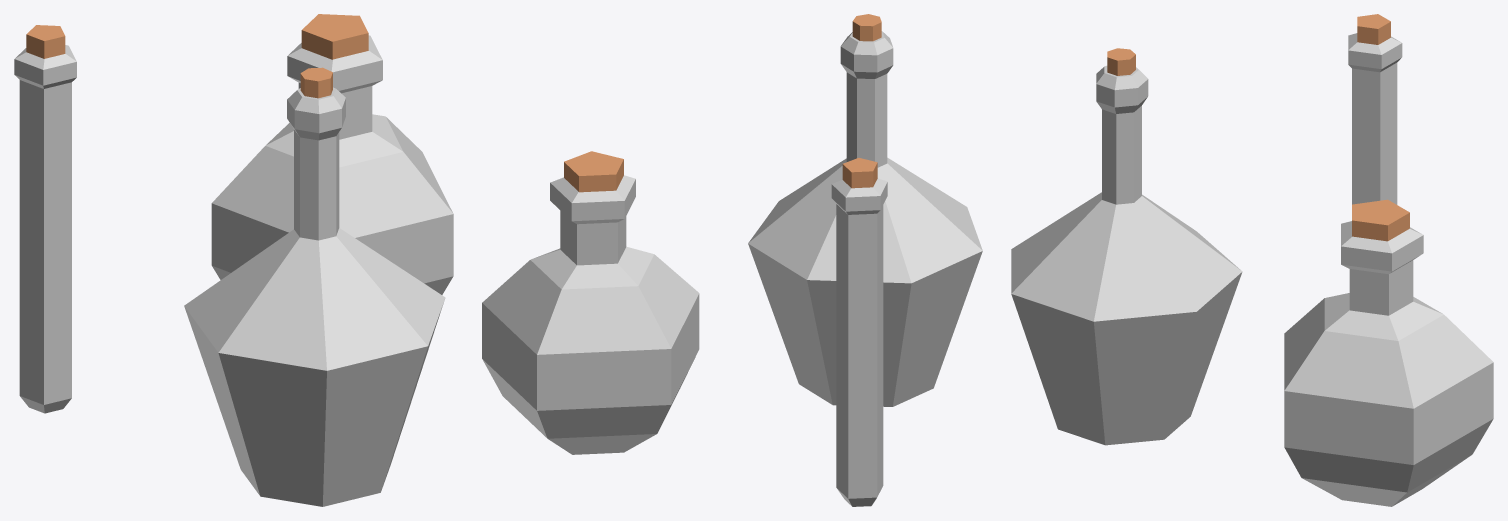
File: potions.fbx
3 views of the same model, side by side, from view 1: azimuth 30°, elevation 25°; view 2: azimuth 150°, elevation 25°; view 3: azimuth 270°, elevation 25° (orthographic). The views are drawn at different scales.
Visible parts, largest first — view 1: medium_potion, large_potion, Sphere.000; view 2: large_potion, medium_potion, Sphere.000; view 3: medium_potion, large_potion, Sphere.000.
Part boxes in pixels (x1,y1,x2,y2): medium_potion: (184,67,445,506); large_potion: (211,14,453,294); Sphere.000: (14,25,76,413); large_potion: (482,151,699,454); medium_potion: (748,14,982,406); Sphere.000: (831,158,887,506); medium_potion: (1011,48,1242,445); large_potion: (1284,199,1493,506); Sphere.000: (1348,14,1402,204).
Size of the model in its own units: 366 by 329 by 396.
